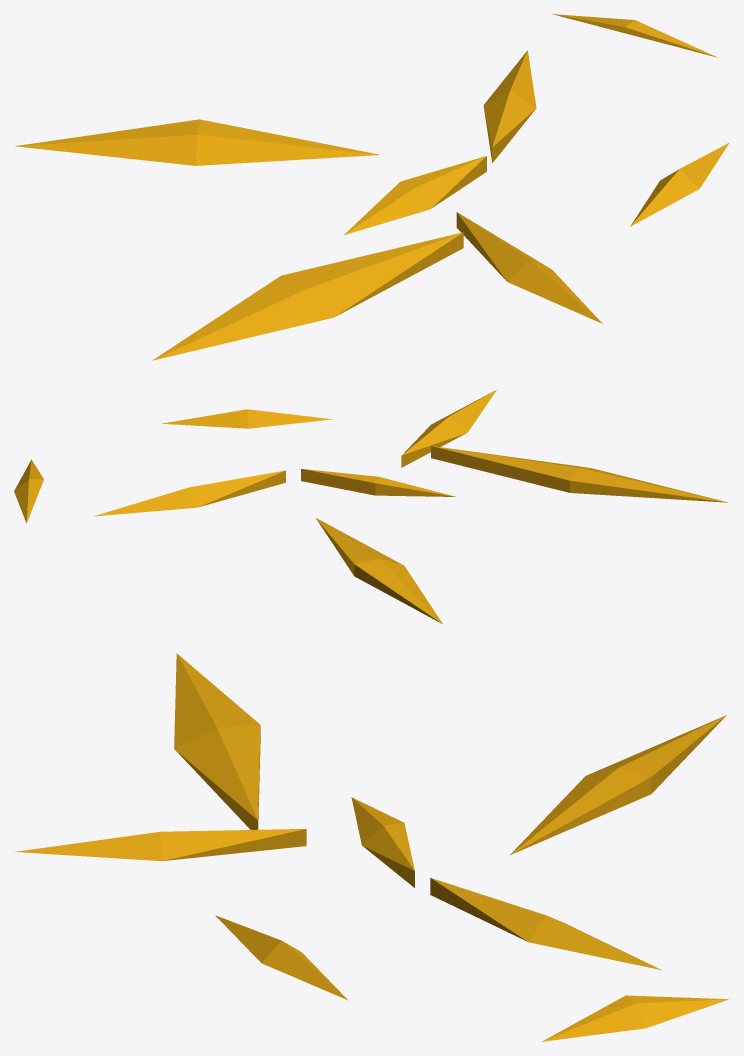
Rendered from campfire_log_shards.fbx.
3 renders of one model, top to bottom at view 1: azimuth 30°, elevation 25°; view 2: azimuth 150°, elevation 25°; view 3: azimuth 270°, elevation 25°, orthographic. The views are drawn at different scales.
Parts seen in each view (by area): view 1: Plane.006; view 2: Plane.006; view 3: Plane.006.
Boxes of the visible parts, box(x1,y1,x2,y2) form: Plane.006: box(15, 14, 729, 360); Plane.006: box(14, 390, 728, 623); Plane.006: box(15, 653, 728, 1041).
Bounding box in the file's own units: 446 × 9.23 × 347.
